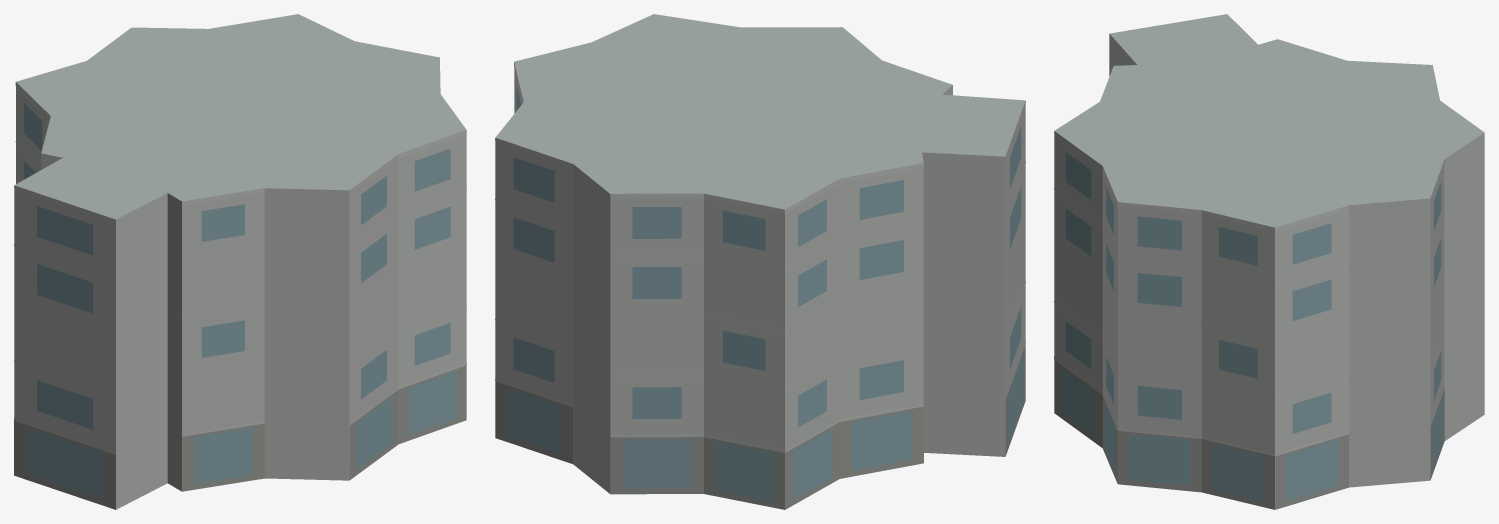
The model's file is survey-upis-32854164.glb.
3 views of the same model, side by side, from view 1: azimuth 30°, elevation 25°; view 2: azimuth 150°, elevation 25°; view 3: azimuth 270°, elevation 25° (orthographic). The views are drawn at different scales.
Visible parts, largest first — view 1: survey-upis-32854164.tmp; view 2: survey-upis-32854164.tmp; view 3: survey-upis-32854164.tmp.
Part boxes in pixels (x1,y1,x2,y2): survey-upis-32854164.tmp: [14, 14, 466, 509]; survey-upis-32854164.tmp: [495, 14, 1025, 509]; survey-upis-32854164.tmp: [1054, 14, 1484, 509].
Bounding box in the file's own units: 24.78 × 15.25 × 21.1.
